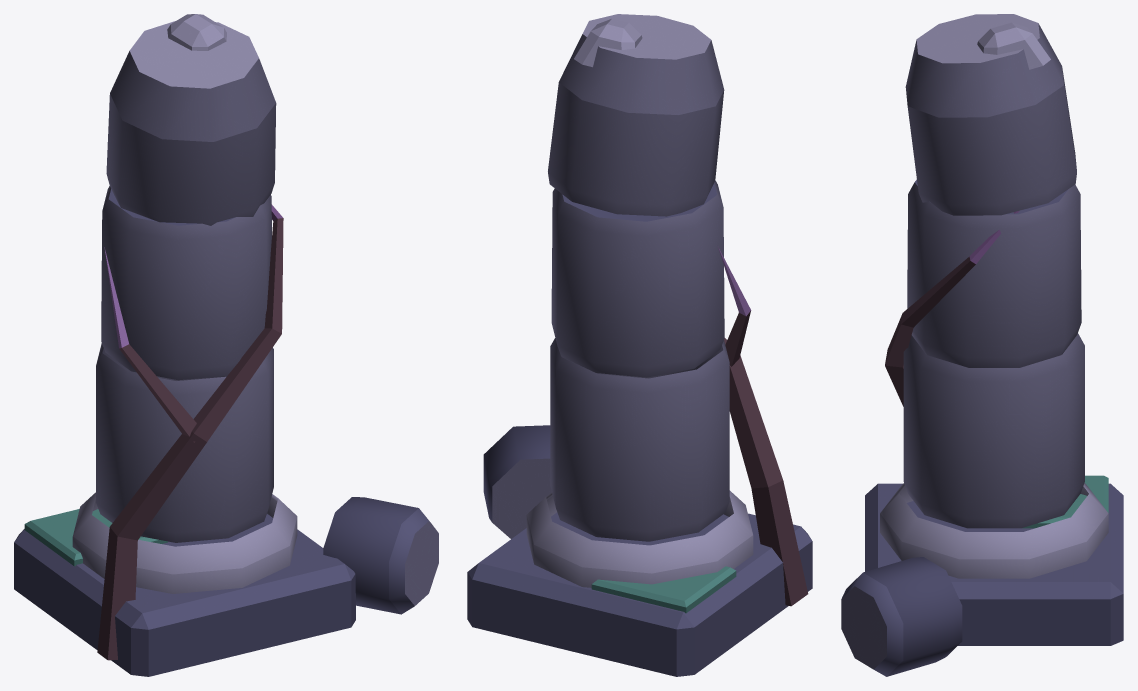
File: pillar_broken.glb
The picture shows the model from 3 angles, left to right: view 1: azimuth 30°, elevation 25°; view 2: azimuth 150°, elevation 25°; view 3: azimuth 270°, elevation 25°; orthographic projection.
Parts seen in each view (by area): view 1: pillar_broken; view 2: pillar_broken; view 3: pillar_broken.
Boxes of the visible parts, x1,y1,x2,y2 form: pillar_broken: (14,14,438,676); pillar_broken: (467,14,812,676); pillar_broken: (841,14,1123,676).
Size of the model in its own units: 1.72 by 2.94 by 1.31.
Materials: 1 (1 with a texture image).
